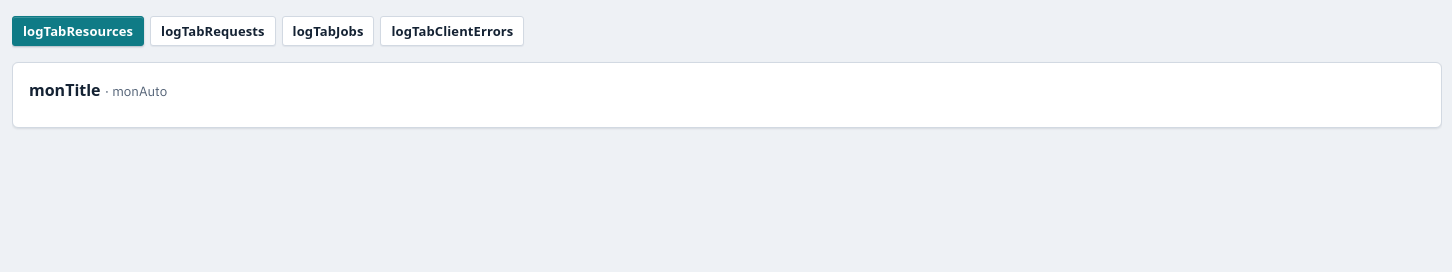
Test: MonitorTabs — wyścig zapytań (race guard) › starsza odpowiedź rozwiązana po nowszej nie nadpisuje wyświetlonych danych
Click the button "logTabRequests". click: (213, 31)
box: [150,16,276,46]
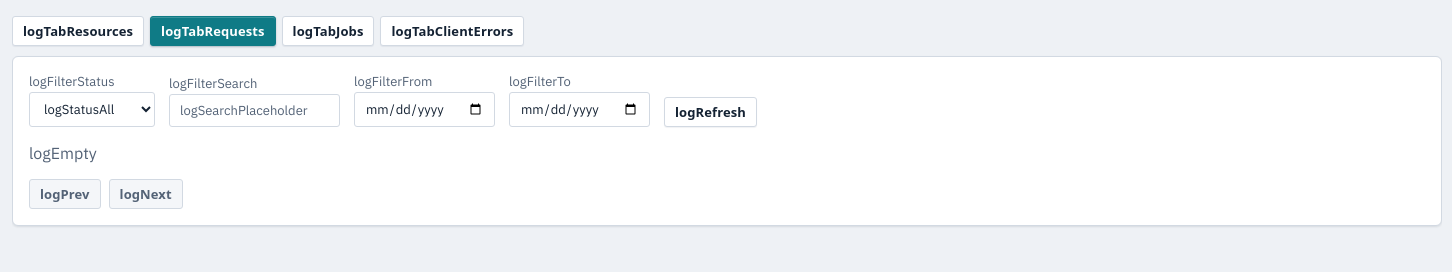
Click the button "logRefresh". click: (710, 112)
box: [664,97,757,127]
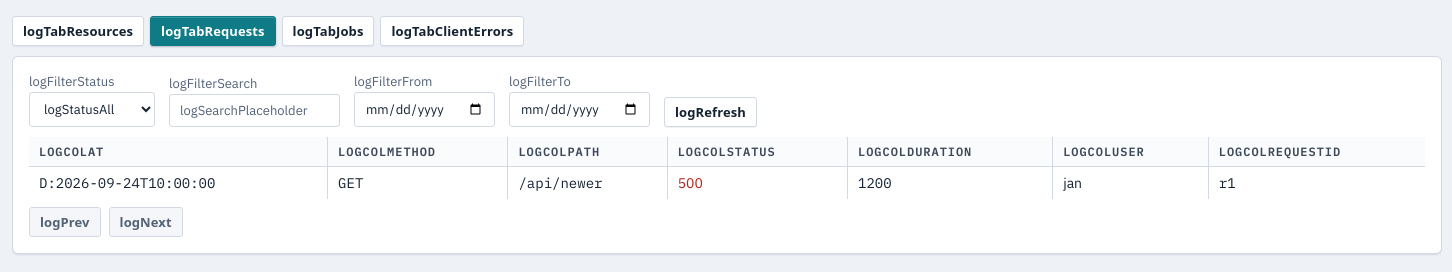
Check: the text "/api/newer" is shown, box [508,166,667,199]
